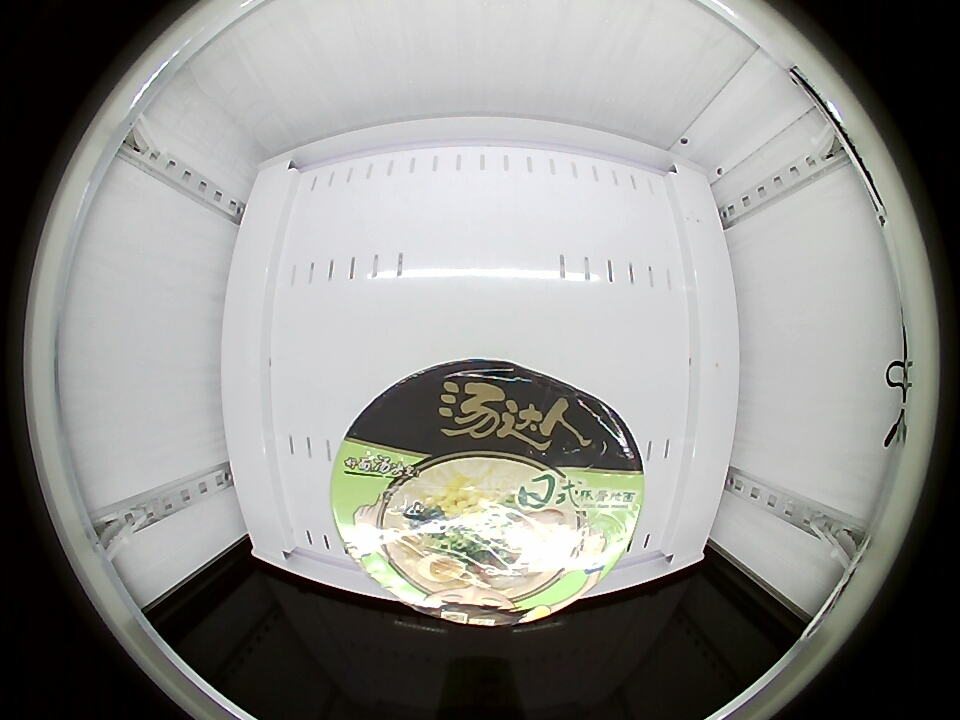tangdaren: (331, 360, 646, 626)
